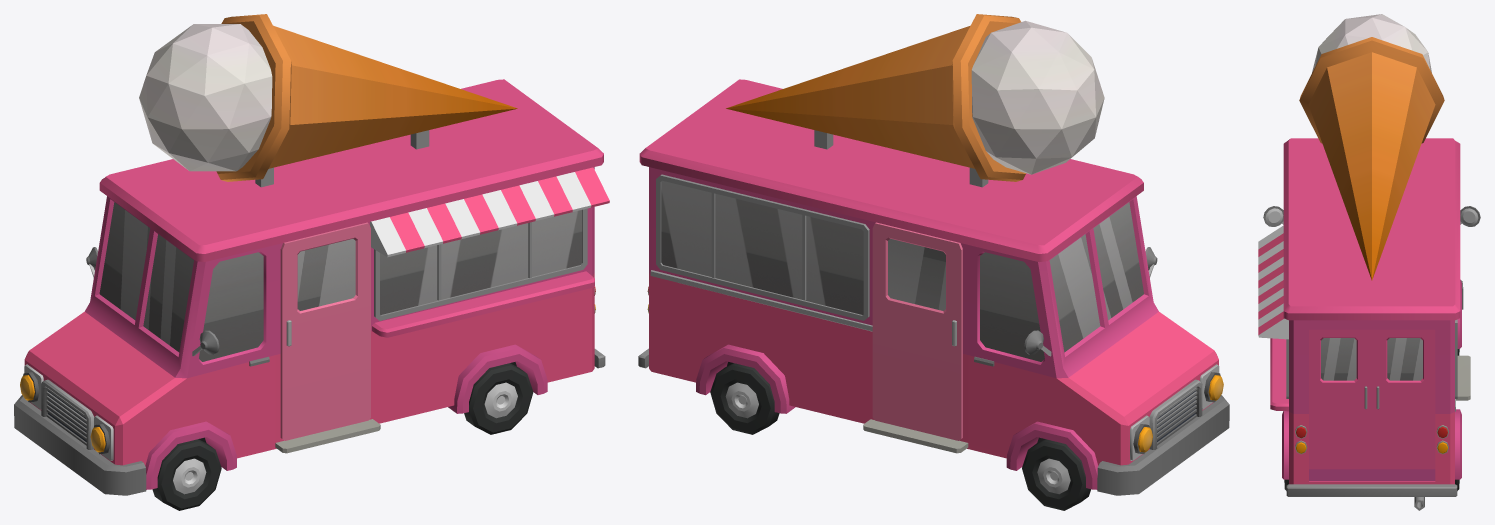
Rendered from IceTruck_1_C.fbx.
3 views of the same model, side by side, from view 1: azimuth 30°, elevation 25°; view 2: azimuth 150°, elevation 25°; view 3: azimuth 270°, elevation 25° (orthographic). The views are drawn at different scales.
Parts seen in each view (by area): view 1: IceTruck_1_C, RL, FL; view 2: IceTruck_1_C, RR, FR; view 3: IceTruck_1_C.
Part boxes in pixels (x1=…): IceTruck_1_C: x1=14, y1=14, x2=609, y2=495; RL: x1=464, y1=363, x2=533, y2=434; FL: x1=152, y1=439, x2=221, y2=510; IceTruck_1_C: x1=638, y1=14, x2=1229, y2=495; RR: x1=710, y1=363, x2=779, y2=434; FR: x1=1022, y1=439, x2=1090, y2=510; IceTruck_1_C: x1=1258, y1=14, x2=1480, y2=510.
Bounding box in the file's own units: 416 × 338 × 184.
